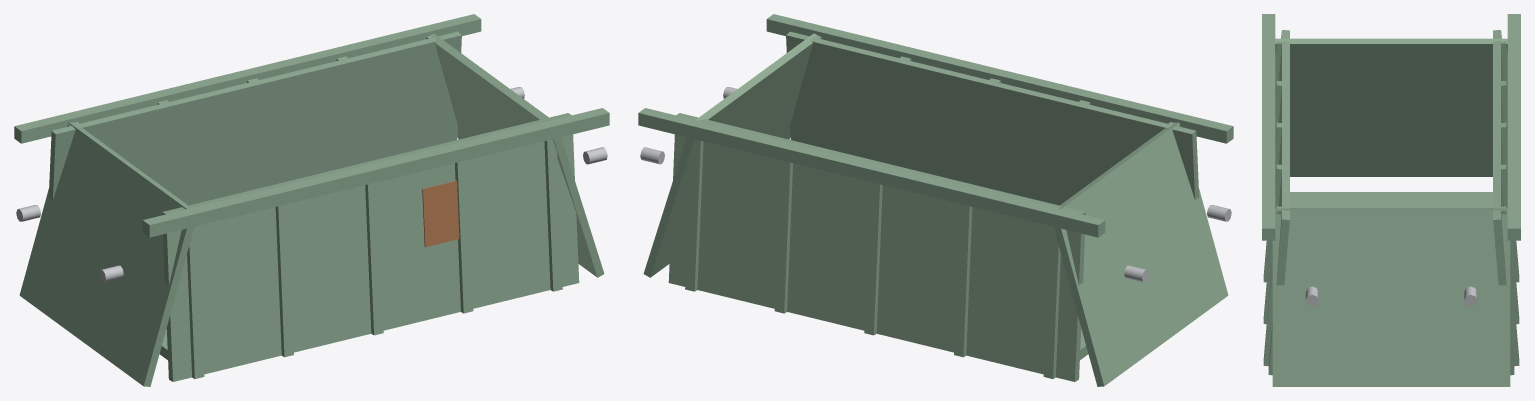
File: skip.fbx
3 views of the same model, side by side, from view 1: azimuth 30°, elevation 25°; view 2: azimuth 150°, elevation 25°; view 3: azimuth 270°, elevation 25° (orthographic). The views are drawn at different scales.
Visible parts, largest first — view 1: skip; view 2: skip; view 3: skip.
Boxes of the visible parts, <box> form: skip: <box>14,14,609,386</box>; skip: <box>638,14,1233,386</box>; skip: <box>1262,14,1520,386</box>.
Size of the model in its own units: 4.2 by 1.43 by 1.96.
